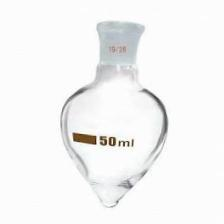Pear shaped flask: (40, 23, 173, 200)
